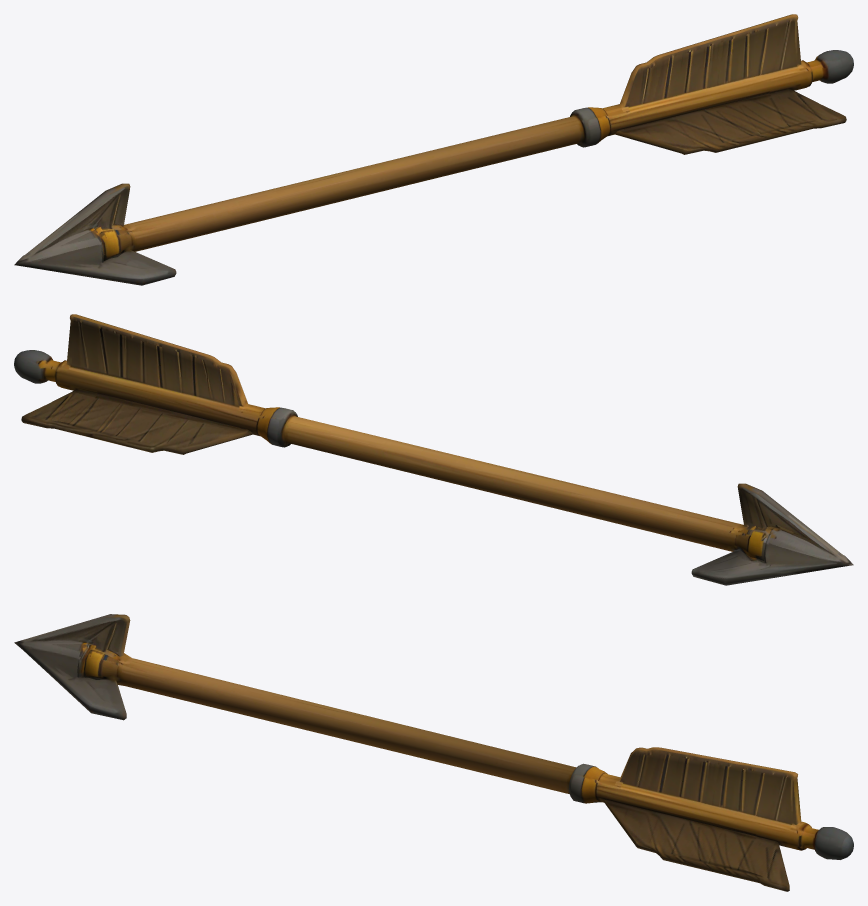
File: primitive_arrow_e6a0532e_v4.glb
3 renders of one model, top to bottom at view 1: azimuth 30°, elevation 25°; view 2: azimuth 150°, elevation 25°; view 3: azimuth 330°, elevation 25°, orthographic.
Visible parts, largest first — view 1: mesh_input; view 2: mesh_input; view 3: mesh_input.
Boxes of the visible parts, x1=… form: mesh_input: x1=14, y1=14, x2=853, y2=285; mesh_input: x1=14, y1=314, x2=853, y2=585; mesh_input: x1=14, y1=614, x2=853, y2=891.
Size of the model in its own units: 1.9 by 0.2031 by 0.2344.
Materials: 1 (1 with a texture image).
